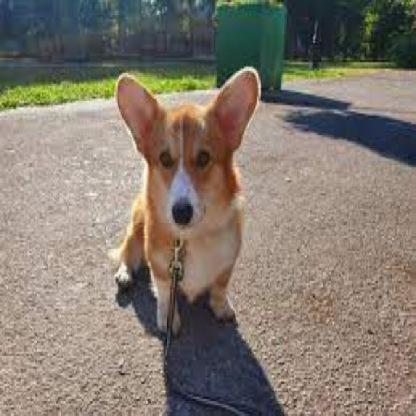dog: (110, 65, 262, 336)
